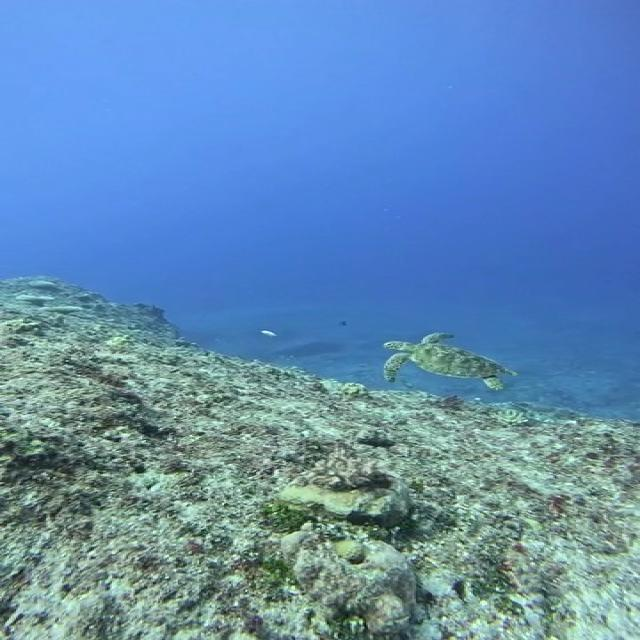turtle: (384, 333, 517, 391)
